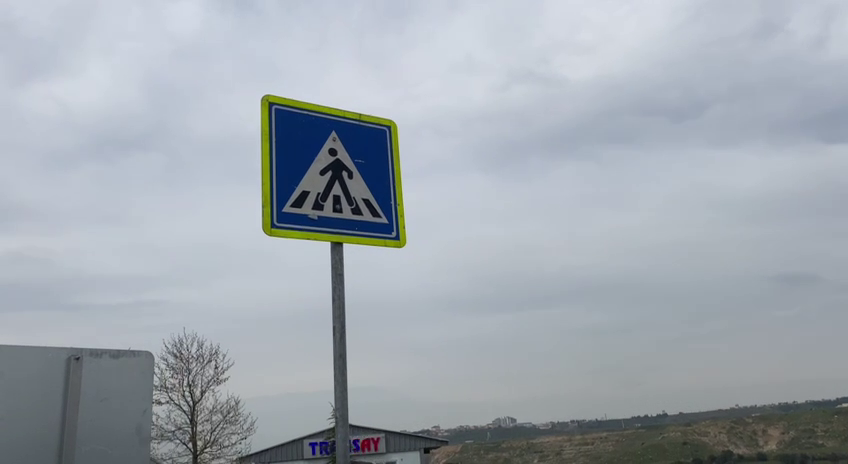pedestrianCrossing: (258, 89, 408, 251)
